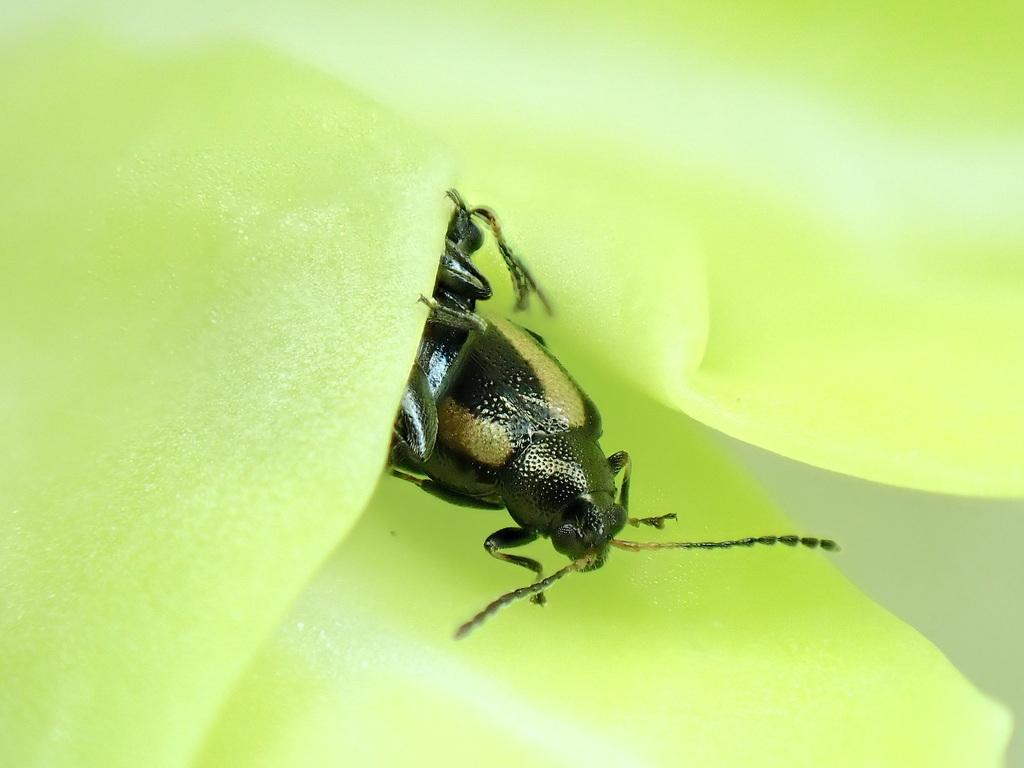flea_beetle: (289, 161, 876, 703)
